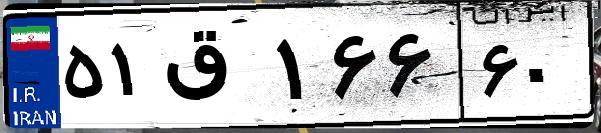0: (525, 38, 570, 115)
1: (270, 28, 330, 110), (110, 28, 158, 98)
5: (57, 26, 110, 100)
6: (385, 28, 445, 110), (330, 28, 385, 110), (475, 38, 525, 113)
ق: (158, 20, 270, 120)
